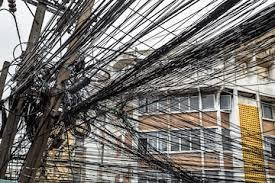wires-only: (25, 10, 267, 115)
